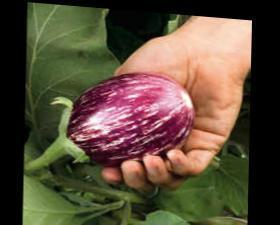eggplant: (34, 62, 212, 181)
